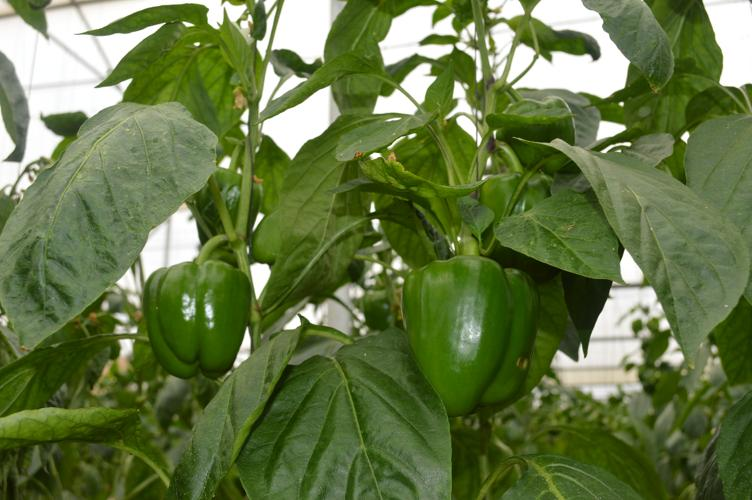BellPepper: (396, 251, 537, 419), (135, 262, 245, 379), (190, 162, 263, 256), (500, 92, 585, 169)
